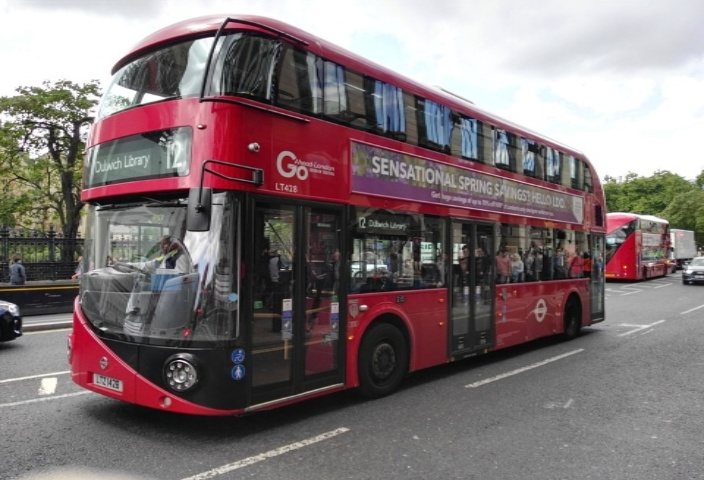bus: (73, 20, 627, 404), (599, 215, 676, 287)
